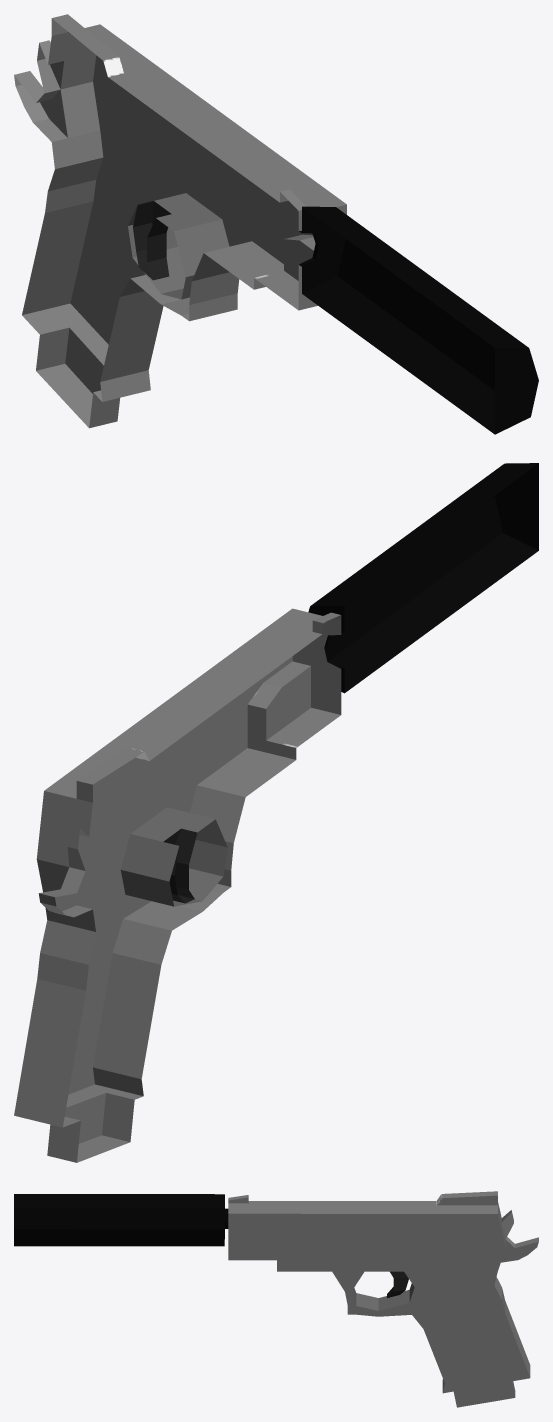
File: Pistolita.glb
The picture shows the model from 3 angles, top to bottom: view 1: azimuth 30°, elevation 25°; view 2: azimuth 150°, elevation 25°; view 3: azimuth 270°, elevation 25°; orthographic projection. The views are drawn at different scales.
Parts seen in each view (by area): view 1: Pistola; view 2: Pistola; view 3: Pistola.
Boxes of the visible parts, <box> form: Pistola: <box>14,14,538,434</box>; Pistola: <box>14,463,538,1162</box>; Pistola: <box>14,1191,538,1407</box>.
Bounding box in the file's own units: 0.0201 × 0.1445 × 0.3291.
Materials: 1 (1 with a texture image).
